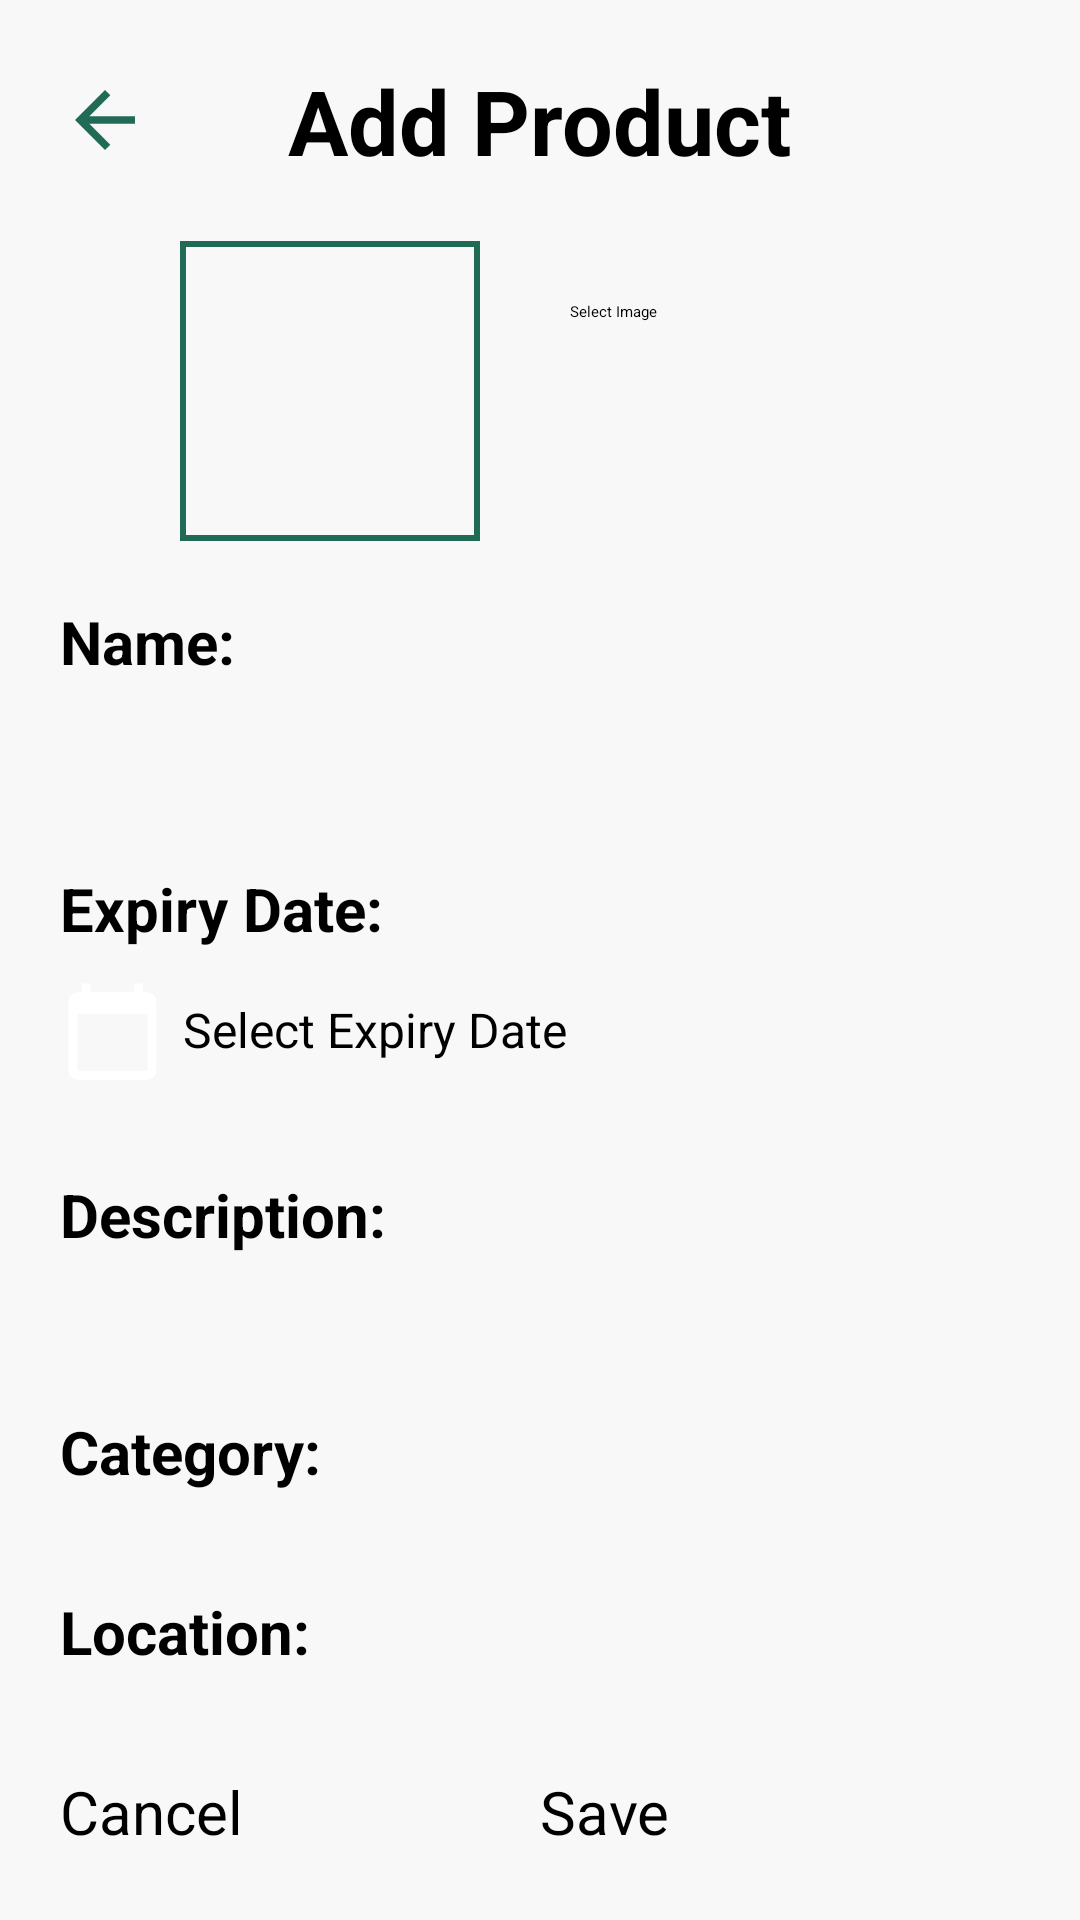

Icons on this 1080*1920 Android screen, each with its box as (x1, y1, x2, y2):
arrow back: (75, 90, 135, 150)
